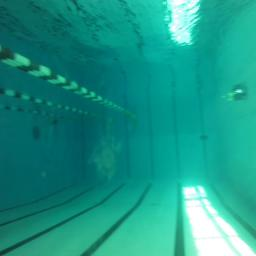Full: (199, 135, 209, 141)
front: (232, 89, 248, 101)
